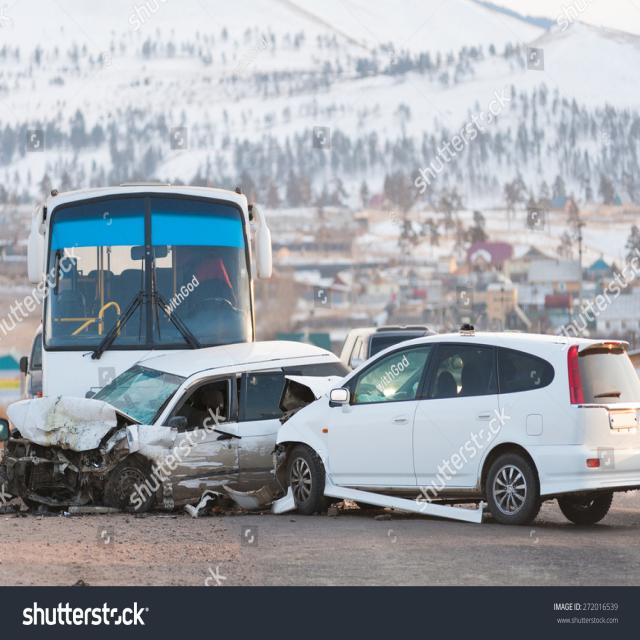Accident: (1, 179, 640, 528)
